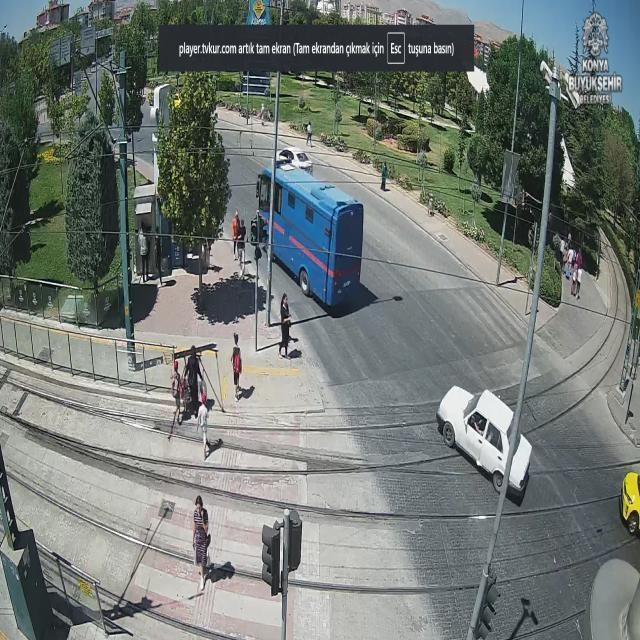Bus: (253, 149, 368, 312)
Car: (434, 372, 536, 500), (269, 137, 328, 180), (614, 464, 640, 534)
